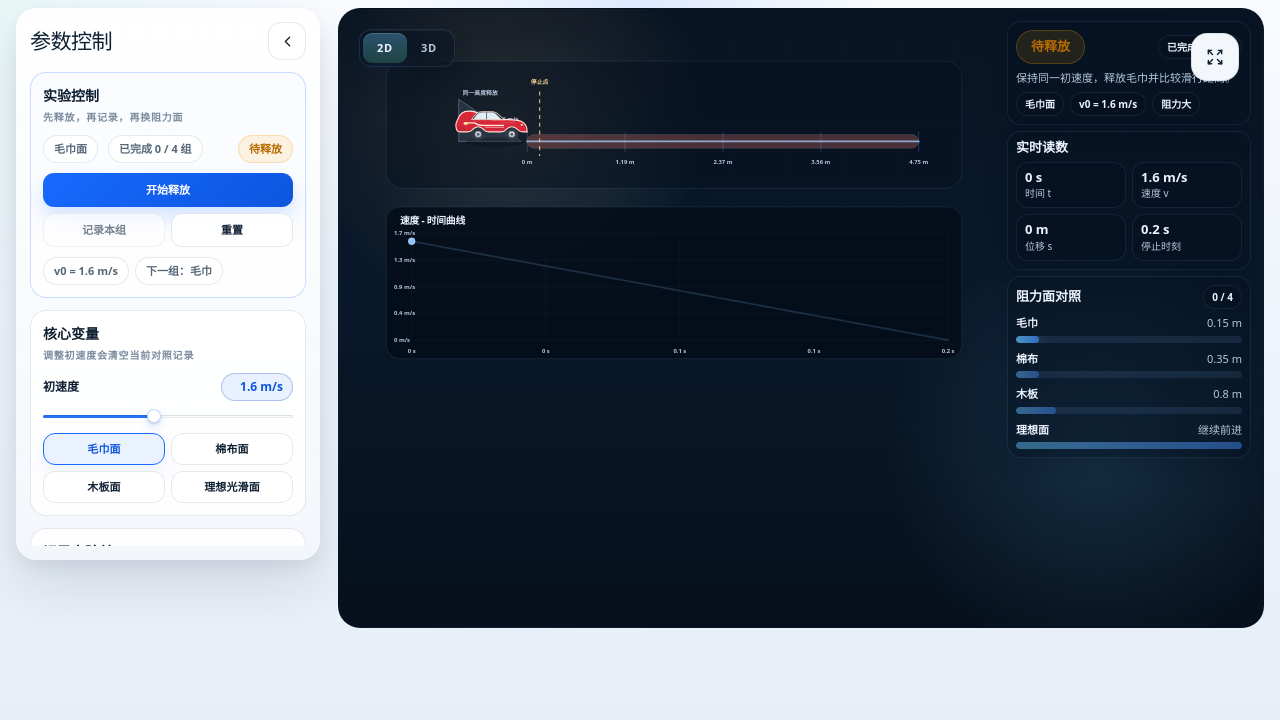
NewtonFirstLawLab › clears existing records after changing the initial velocity
Click the button "开始释放" at (168, 190), box [43,173,293,207]
Wait 1600 ms
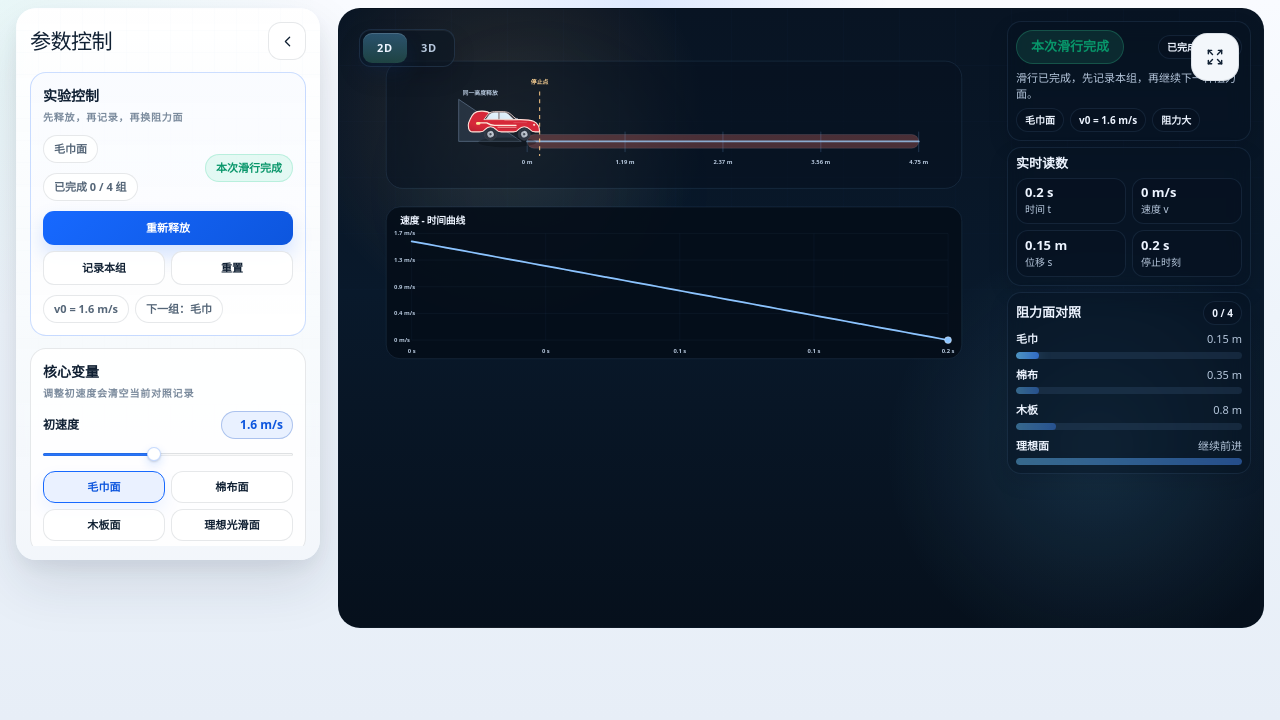
Click the button "记录本组" at (104, 268), box [43,251,165,285]
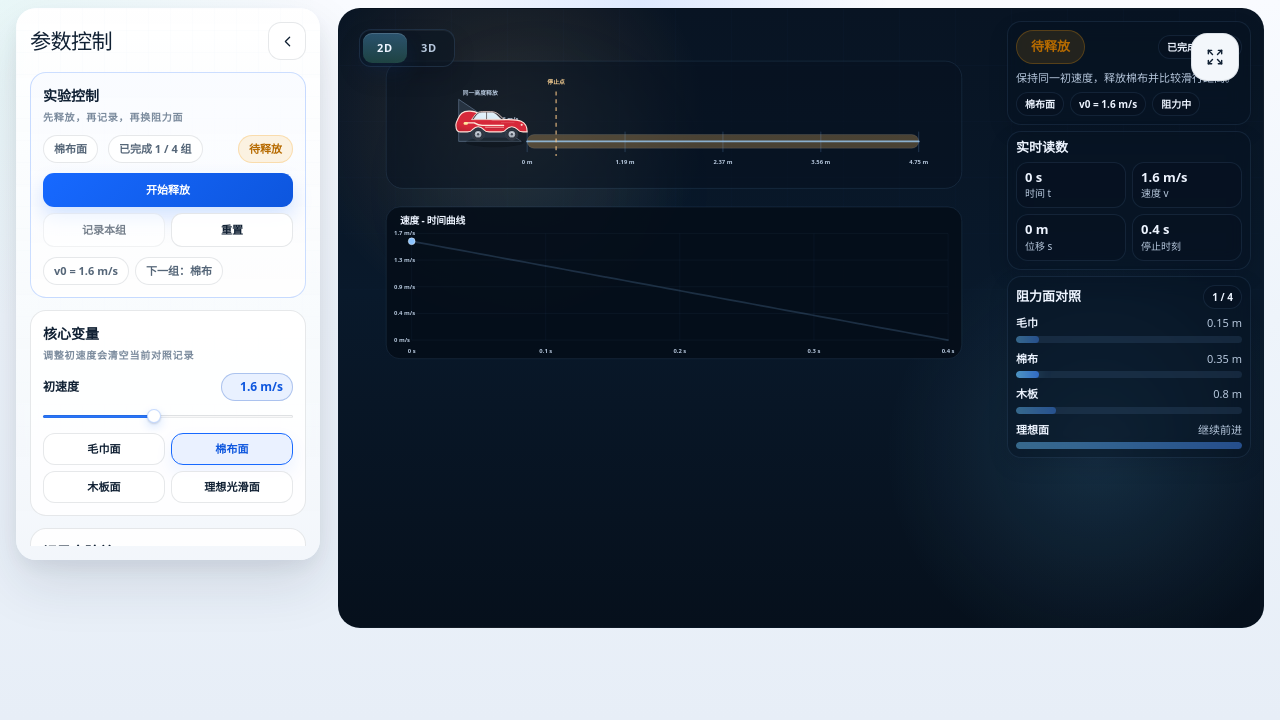
Set the slider labelled "初速度" to "2.1" at (201, 416), box [43,409,293,423]
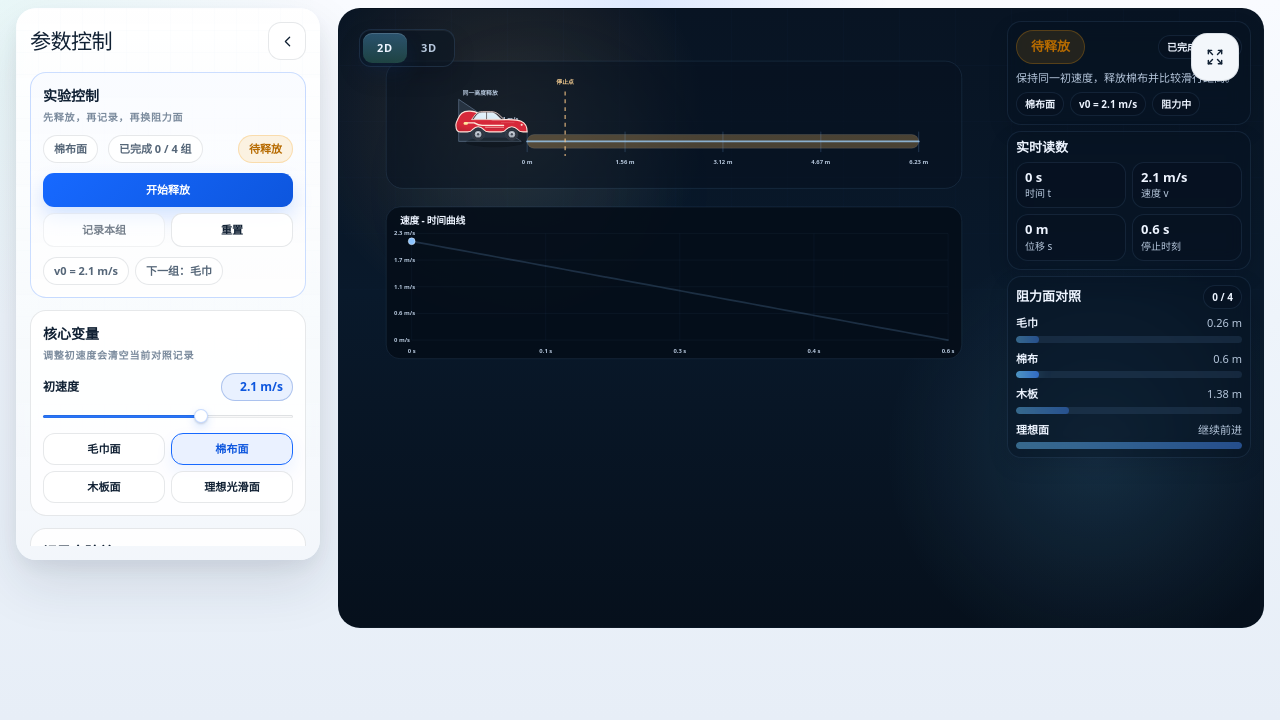
Now the button "记录本组" is disabled, box [43,213,165,247]
Now the text "1 / 4 组" is gone
